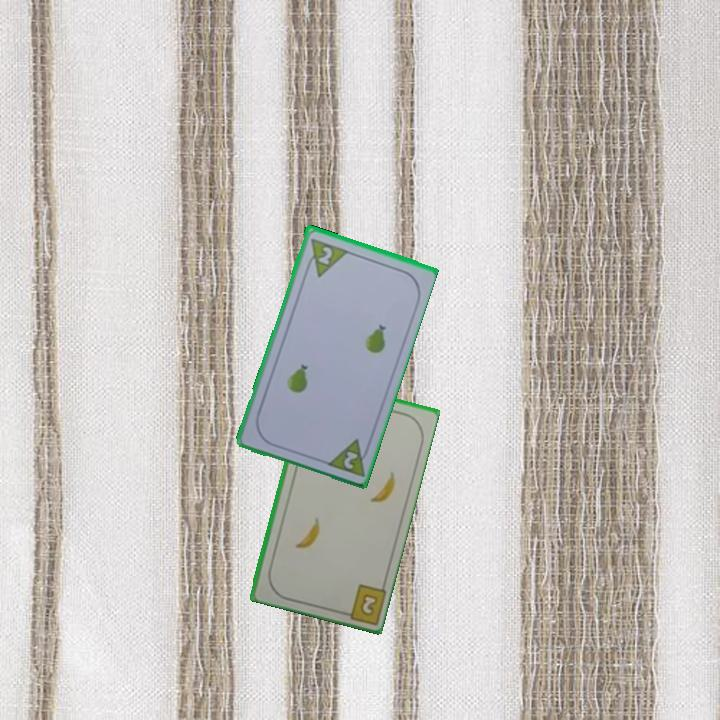2b: (336, 580, 388, 625)
2p: (322, 434, 374, 479), (314, 242, 335, 267)
